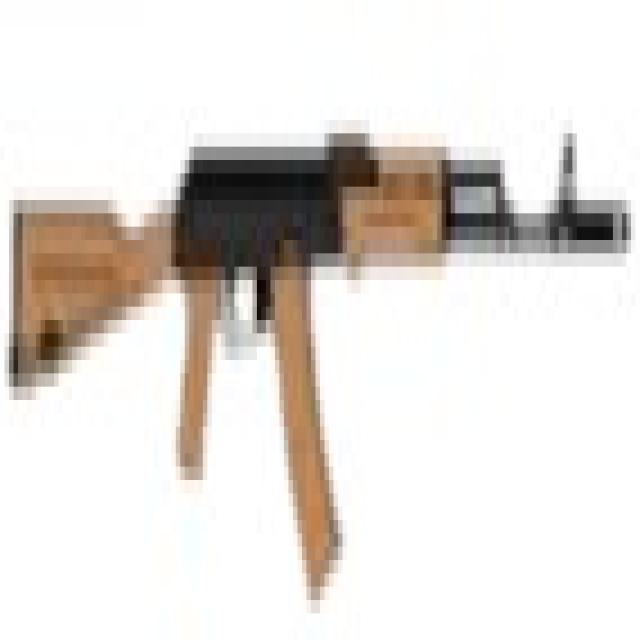rifle: (4, 99, 633, 623)
